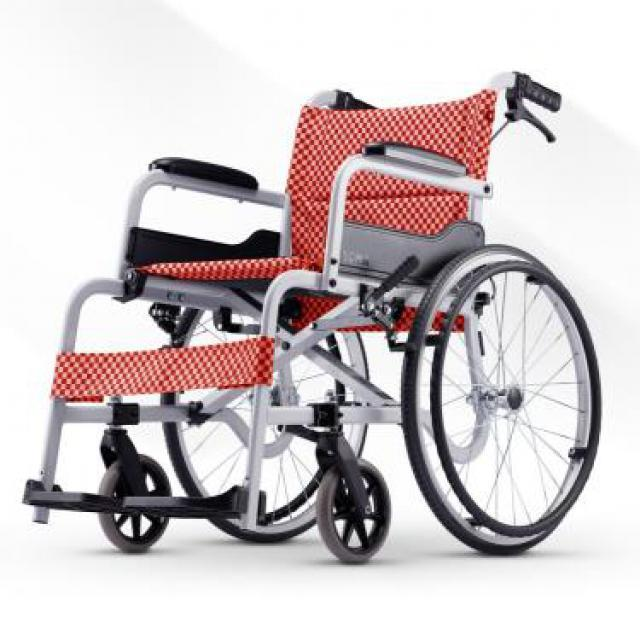wheelchair: (29, 45, 638, 604)
